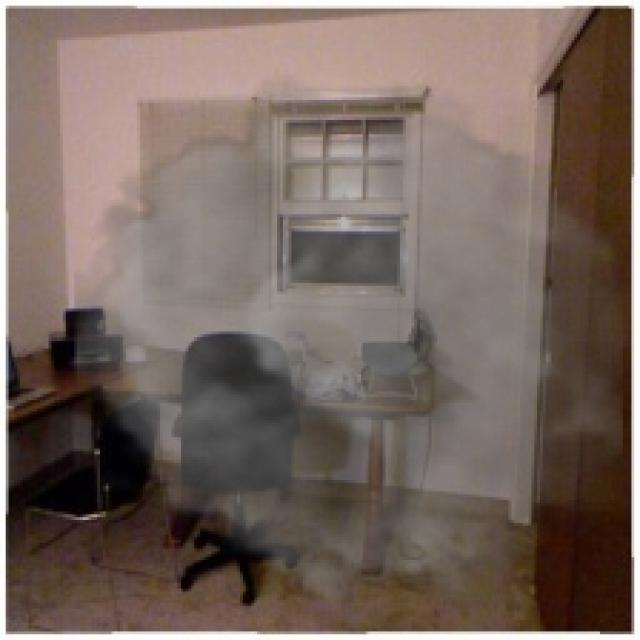smoke: (74, 74, 623, 632)
